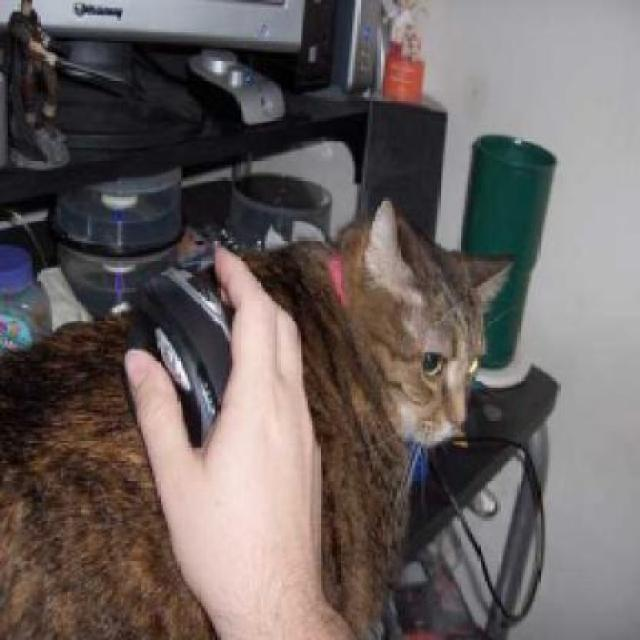mause: (112, 208, 356, 532)
